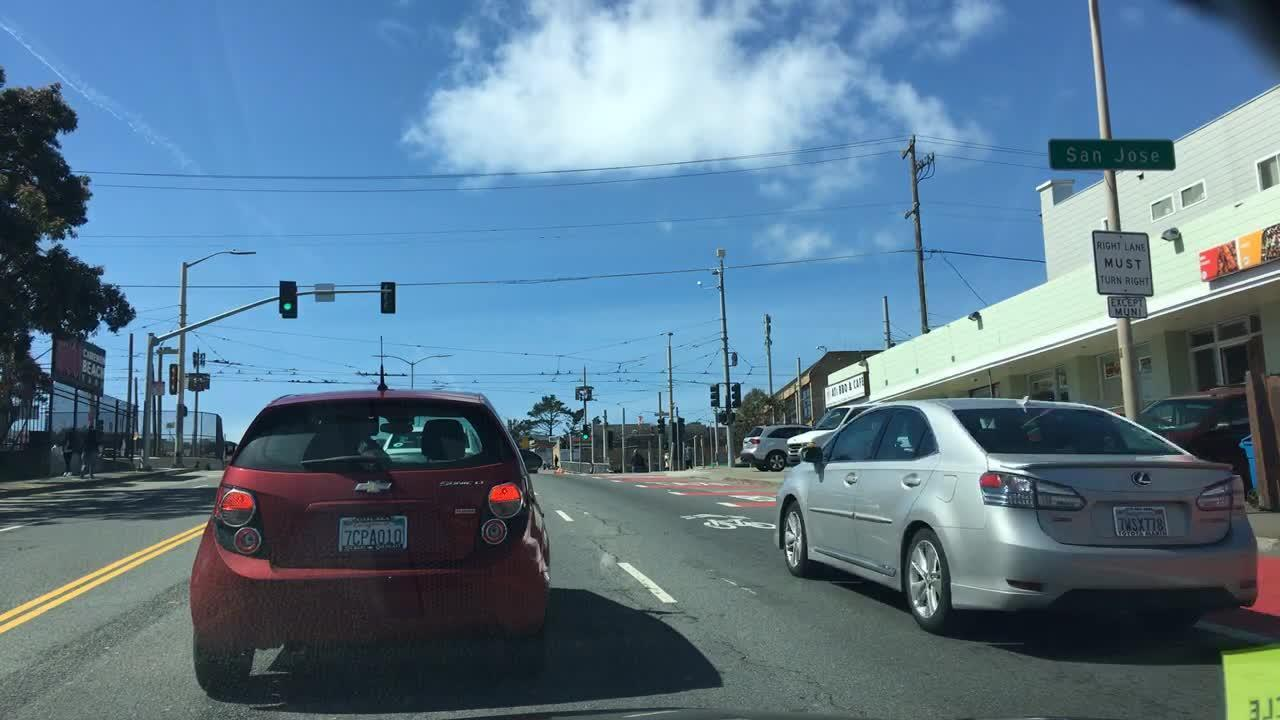chevrolet: (346, 476, 401, 497)
lexus: (1127, 458, 1166, 497)
